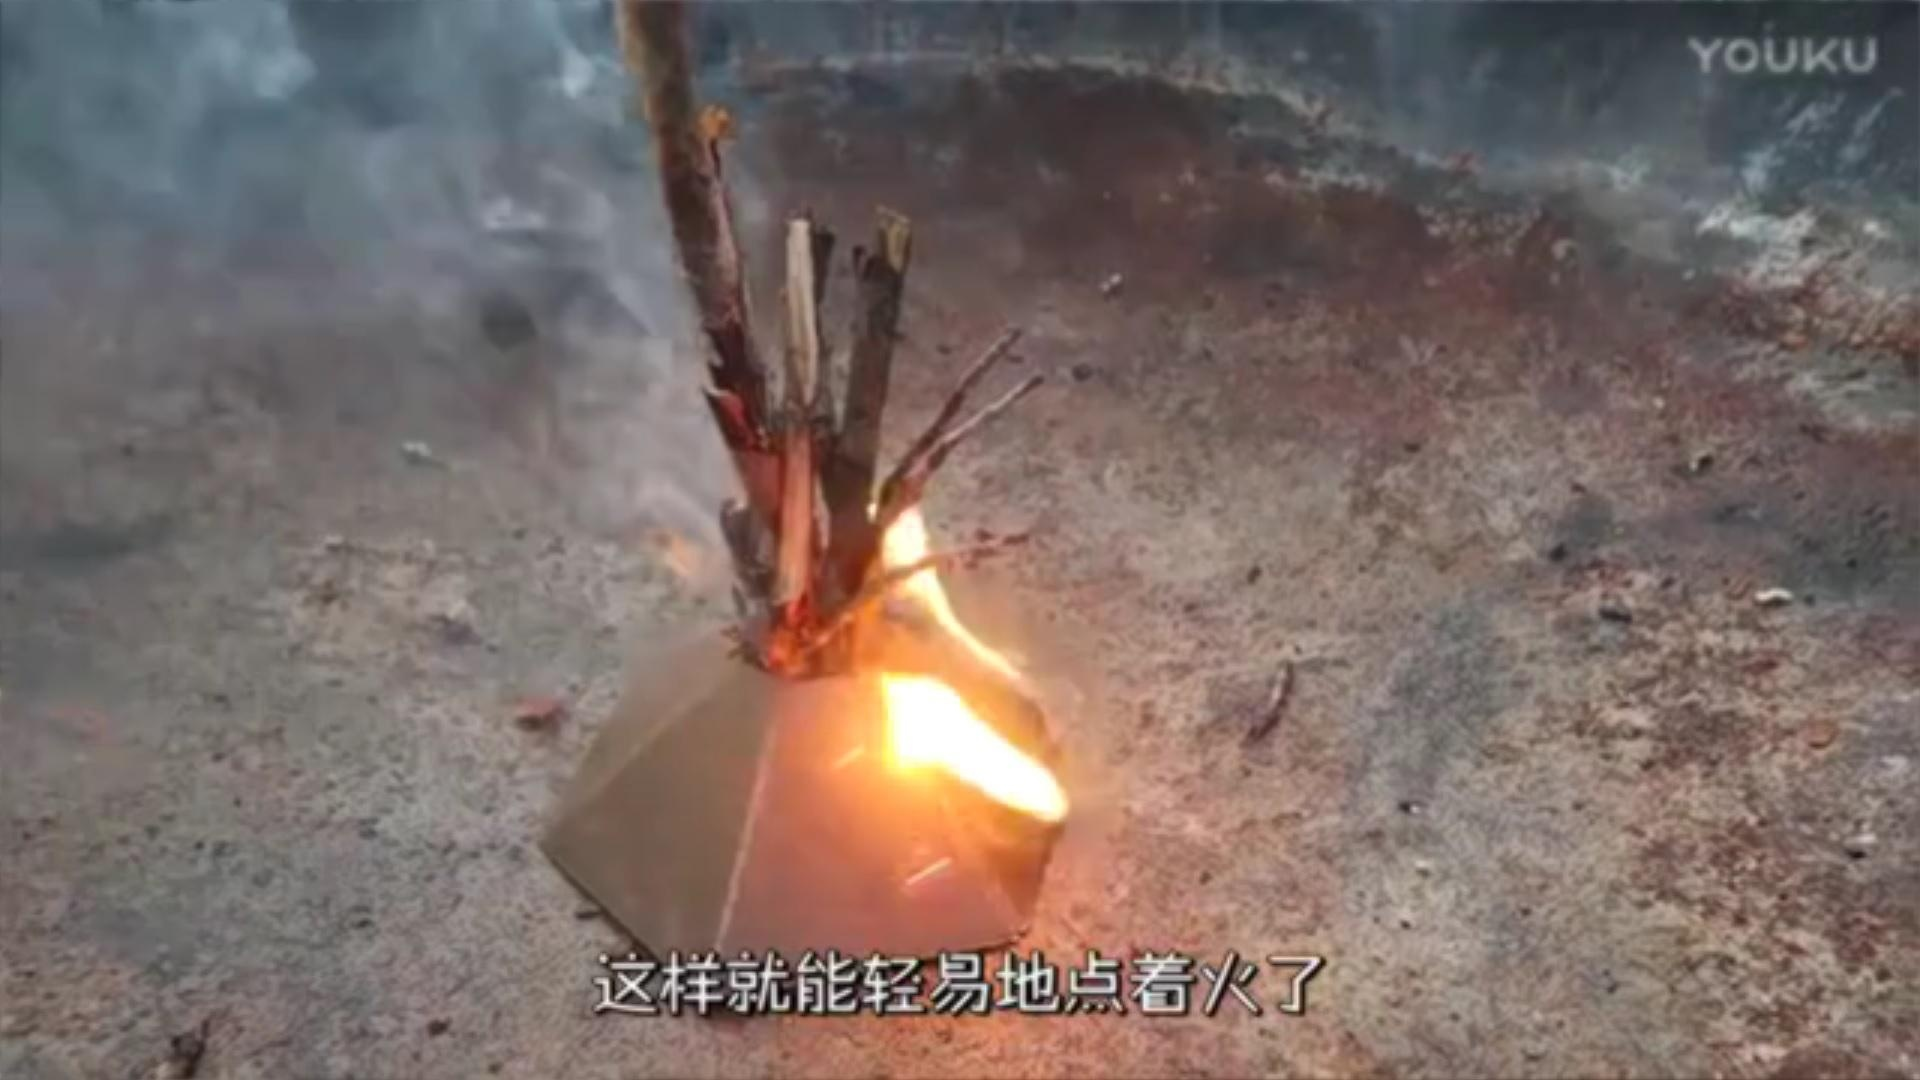fire: (862, 671, 1067, 811)
